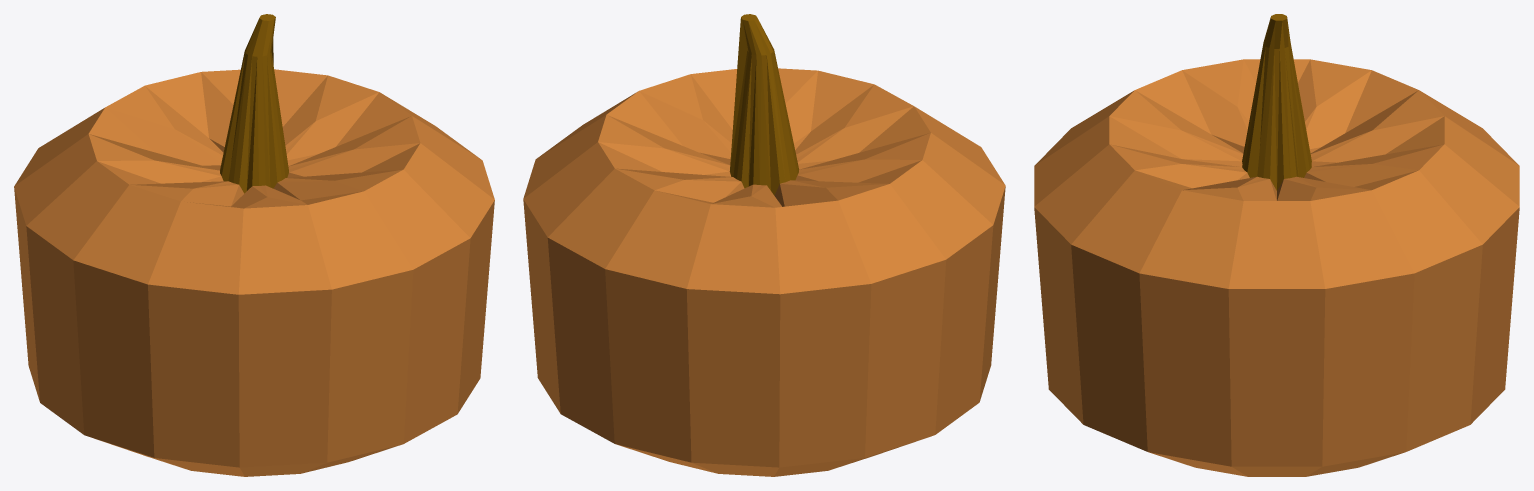
Rendered from pumpkinMesh.fbx.
3 views of the same model, side by side, from view 1: azimuth 30°, elevation 25°; view 2: azimuth 150°, elevation 25°; view 3: azimuth 270°, elevation 25° (orthographic). The views are drawn at different scales.
Visible parts, largest first — view 1: Pumpkin; view 2: Pumpkin; view 3: Pumpkin.
Boxes of the visible parts, x1,y1,x2,y2 form: Pumpkin: (14, 14, 494, 476); Pumpkin: (523, 14, 1005, 476); Pumpkin: (1034, 14, 1519, 476).
Bounding box in the file's own units: 726 × 704 × 726.
